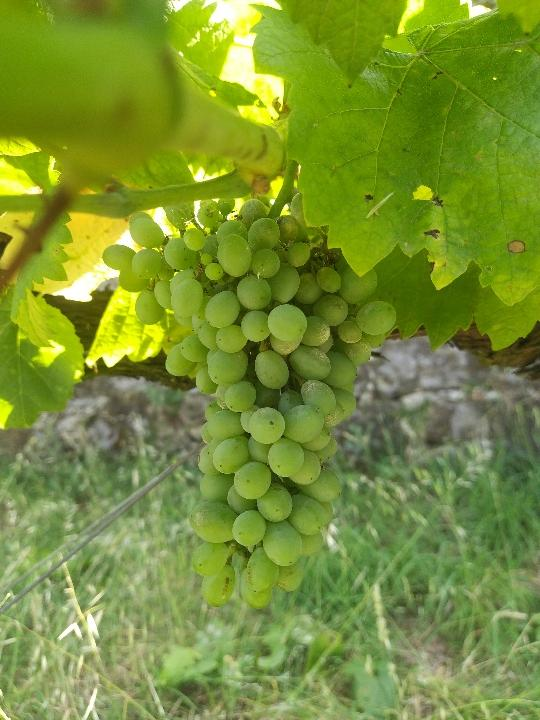grape: (96, 192, 401, 613)
